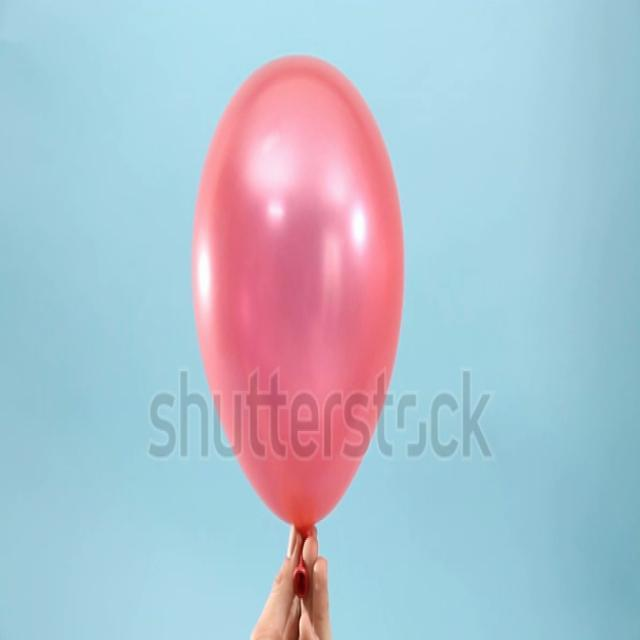red: (189, 52, 406, 595)
